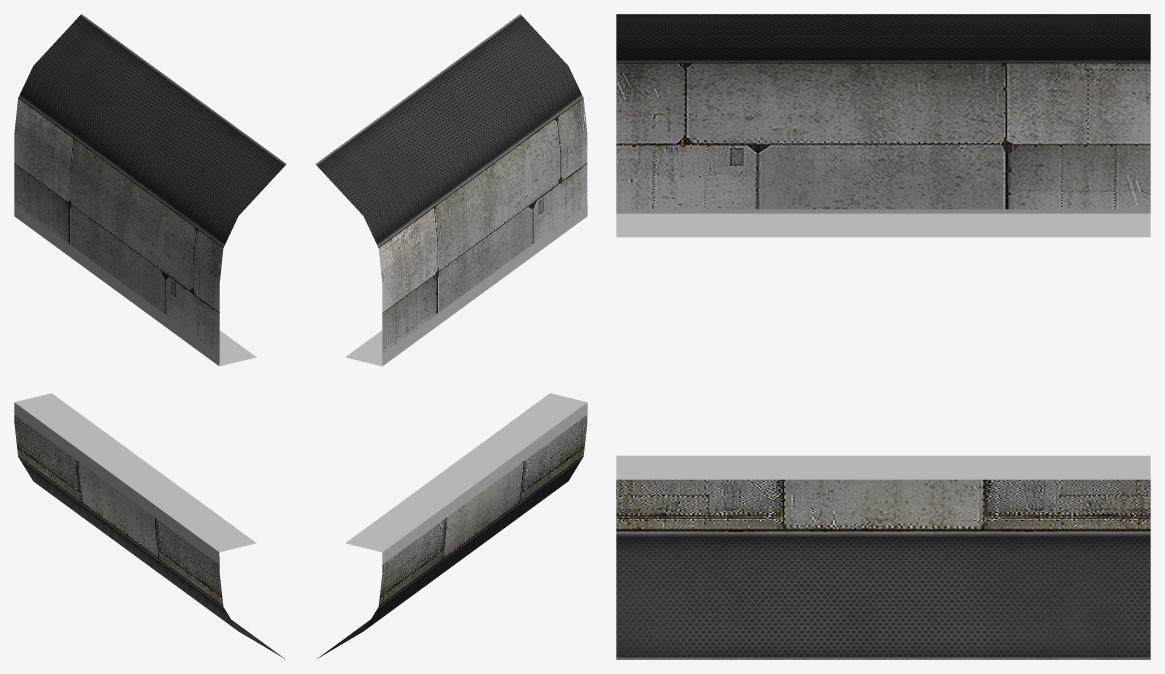
Rendered from Wall_B_Mid4mts_09.fbx.
The picture shows the model from 3 angles, left to right: view 1: azimuth 30°, elevation 25°; view 2: azimuth 150°, elevation 25°; view 3: azimuth 270°, elevation 25°; orthographic projection. The views are drawn at different scales.
Parts seen in each view (by area): view 1: Wall_B_Mid4mts_09; view 2: Wall_B_Mid4mts_09; view 3: Wall_B_Mid4mts_09.
Part boxes in pixels (<box>): Wall_B_Mid4mts_09: <box>14,14,286,658</box>; Wall_B_Mid4mts_09: <box>315,14,587,658</box>; Wall_B_Mid4mts_09: <box>616,14,1150,659</box>.
Size of the model in its own units: 56.75 by 400 by 300.
